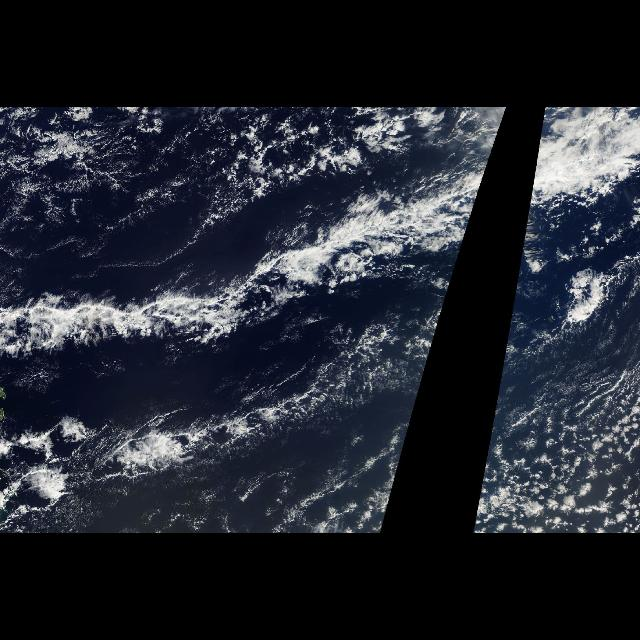Fish: (5, 169, 488, 526), (522, 170, 542, 254)
Flower: (477, 368, 635, 532)
